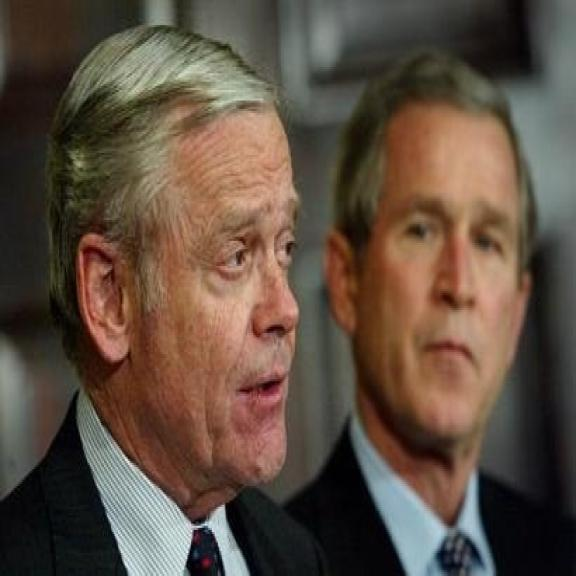face: (65, 61, 300, 497), (319, 82, 539, 443)
